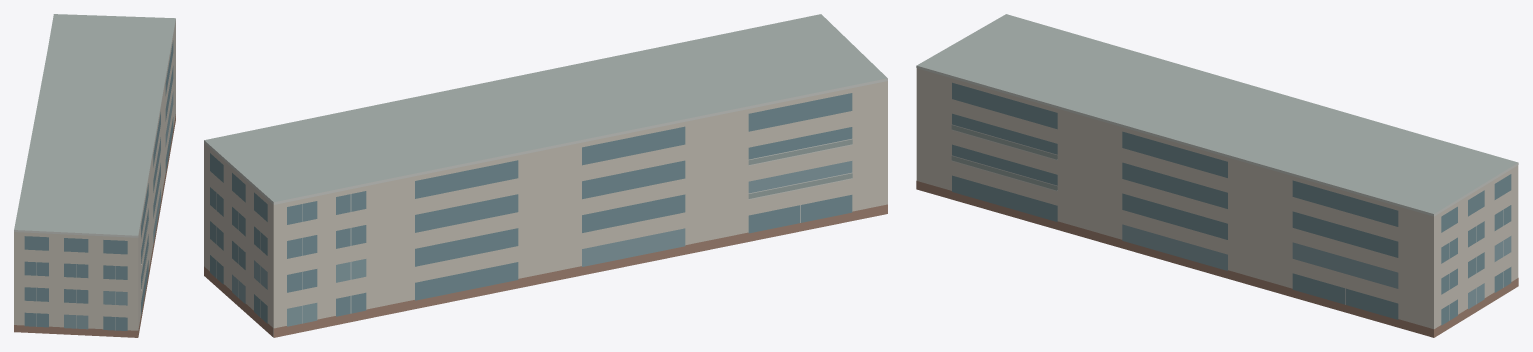
The model's file is residential-4e902691-4815-4f8b-8678-5b58d14f8b14.glb.
The picture shows the model from 3 angles, left to right: view 1: azimuth 30°, elevation 25°; view 2: azimuth 150°, elevation 25°; view 3: azimuth 270°, elevation 25°; orthographic projection. The views are drawn at different scales.
Parts seen in each view (by area): view 1: residential-4e902691-4815-4f8b-8678-5b58d14f8b14.tmp; view 2: residential-4e902691-4815-4f8b-8678-5b58d14f8b14.tmp; view 3: residential-4e902691-4815-4f8b-8678-5b58d14f8b14.tmp.
Part boxes in pixels (box(x1,y1,x2,y2)): residential-4e902691-4815-4f8b-8678-5b58d14f8b14.tmp: box(14, 14, 175, 337); residential-4e902691-4815-4f8b-8678-5b58d14f8b14.tmp: box(204, 14, 887, 337); residential-4e902691-4815-4f8b-8678-5b58d14f8b14.tmp: box(916, 14, 1518, 337).
Bounding box in the file's own units: 42.3 × 12.2 × 53.77.
